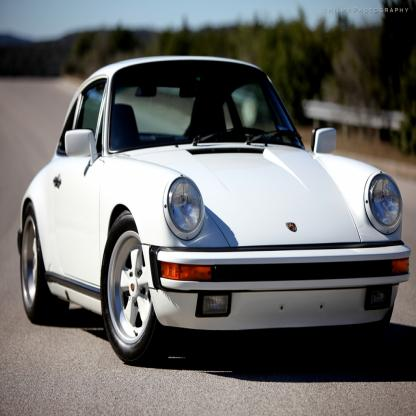Car: (19, 56, 412, 363)
